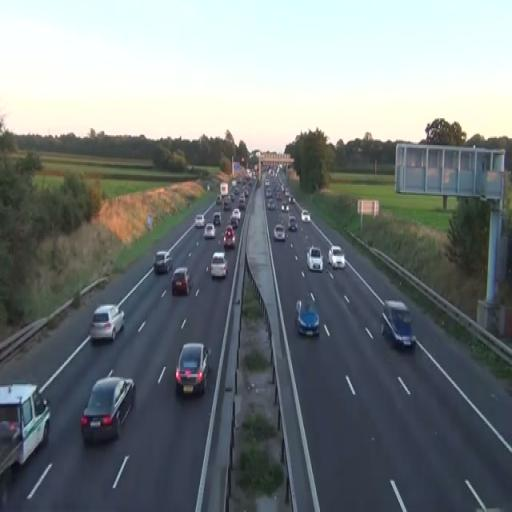Car: (80, 375, 136, 446), (174, 343, 212, 397), (380, 300, 415, 350), (90, 304, 124, 344), (294, 294, 320, 337), (172, 267, 192, 296), (210, 252, 229, 278), (153, 250, 173, 274), (306, 247, 324, 272), (328, 246, 345, 270), (222, 226, 236, 250), (204, 222, 216, 240), (273, 224, 285, 241)
Truck: (0, 382, 52, 480)
